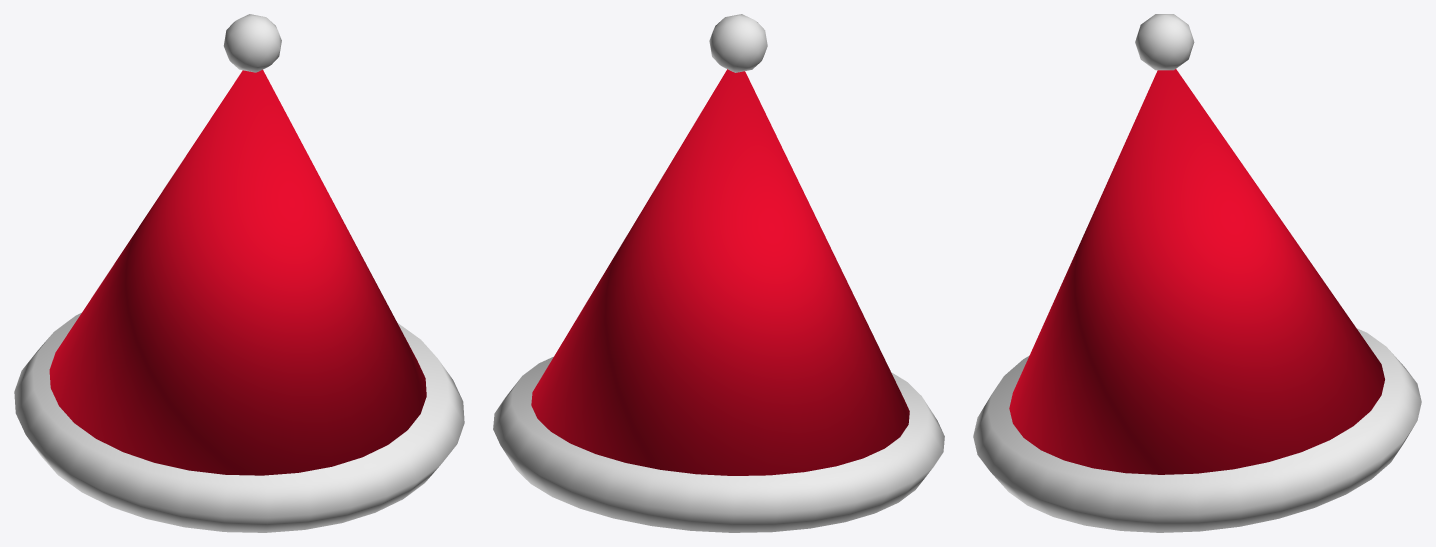
The model's file is model_noel.gltf.
3 renders of one model, left to right at view 1: azimuth 30°, elevation 25°; view 2: azimuth 150°, elevation 25°; view 3: azimuth 270°, elevation 25°, orthographic.
Visible parts, largest first — view 1: model_noel; view 2: model_noel; view 3: model_noel.
Part boxes in pixels (<box>): model_noel: <box>14,14,464,532</box>; model_noel: <box>493,14,944,532</box>; model_noel: <box>973,14,1421,532</box>.
Size of the model in its own units: 0.4763 by 0.517 by 0.4746.
